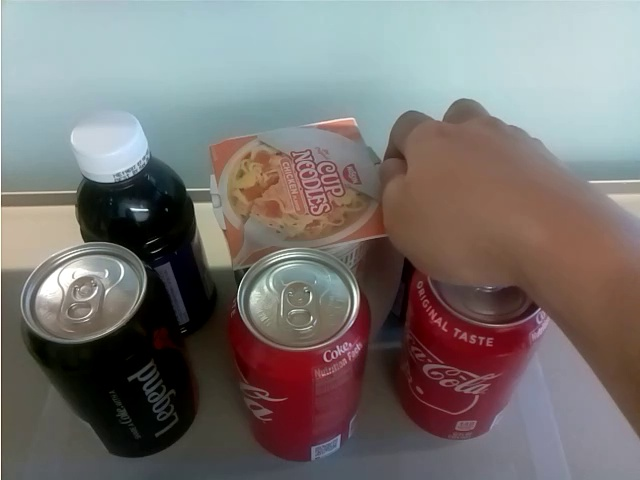cocacola: (226, 249, 374, 466), (395, 259, 551, 444)
cocacola-zero: (22, 240, 202, 458)
hand: (375, 96, 579, 288)
juice: (70, 113, 218, 343)
noodles: (202, 113, 398, 330)
